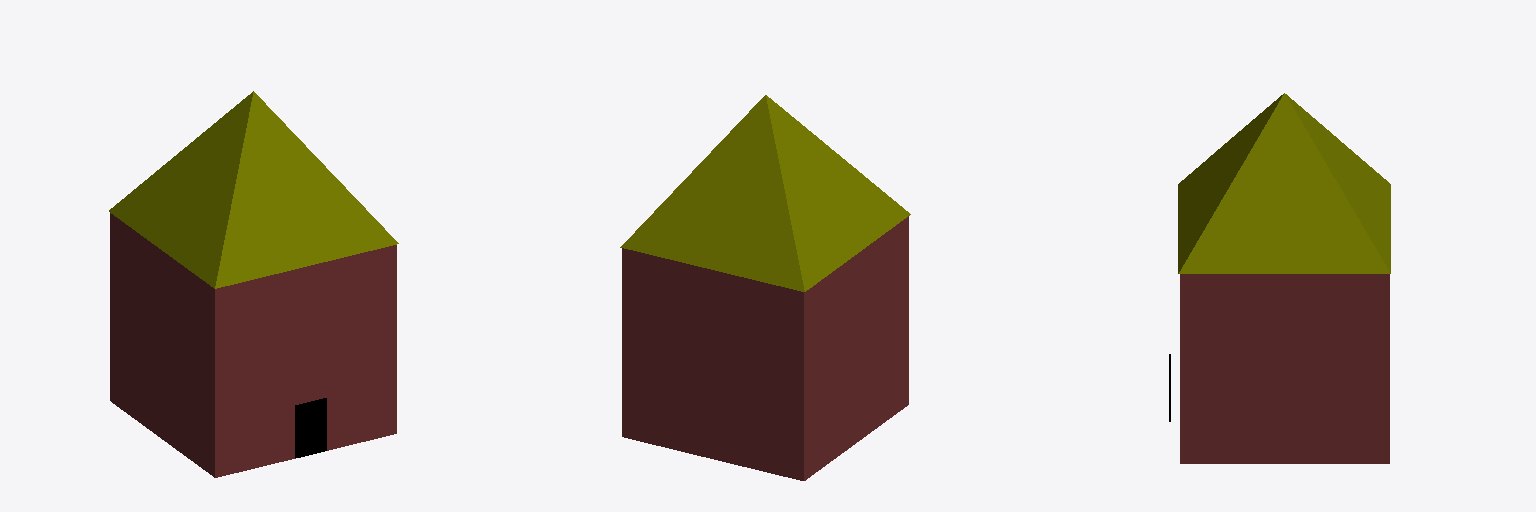
Rendered from window_house.obj.
The picture shows the model from 3 angles: view 1: azimuth 30°, elevation 25°; view 2: azimuth 150°, elevation 25°; view 3: azimuth 270°, elevation 25°; orthographic projection.
Visible parts, largest first — view 1: pCube1, pPyramid1, pCube7; view 2: pCube1, pPyramid1; view 3: pCube1, pPyramid1.
Part boxes in pixels (left/top/right/bottom): pCube1: left=110, top=213, right=396, bottom=477; pPyramid1: left=109, top=91, right=398, bottom=288; pCube7: left=295, top=398, right=326, bottom=457; pCube1: left=622, top=216, right=908, bottom=480; pPyramid1: left=620, top=95, right=910, bottom=291; pCube1: left=1180, top=274, right=1389, bottom=463; pPyramid1: left=1178, top=93, right=1390, bottom=273.
Bounding box in the file's own units: 1.52 × 2.57 × 1.59.